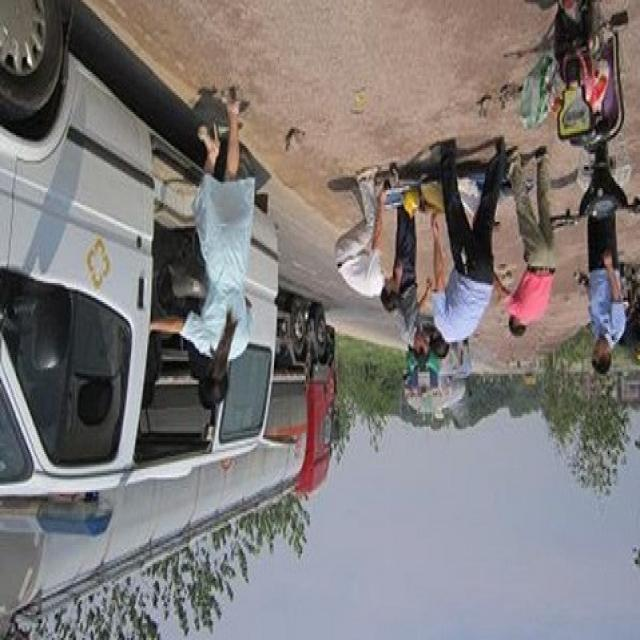nofight: (178, 62, 267, 405), (428, 135, 497, 368), (332, 155, 403, 319), (567, 172, 624, 374), (505, 145, 560, 346), (393, 192, 435, 366)
